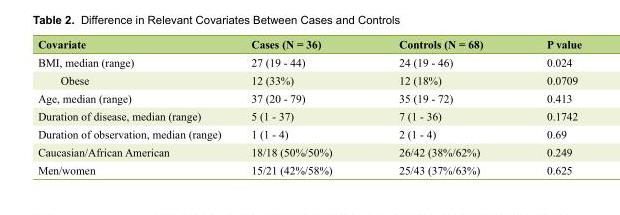table: (37, 37, 581, 176)
table column: (37, 37, 235, 176), (364, 37, 514, 176), (235, 37, 364, 176), (514, 37, 581, 176)
table column header: (37, 37, 581, 52)
table row: (37, 52, 581, 70), (37, 70, 581, 88), (37, 88, 581, 106), (37, 106, 581, 124), (37, 124, 581, 142), (37, 142, 581, 160), (37, 160, 581, 176), (37, 37, 581, 52)
